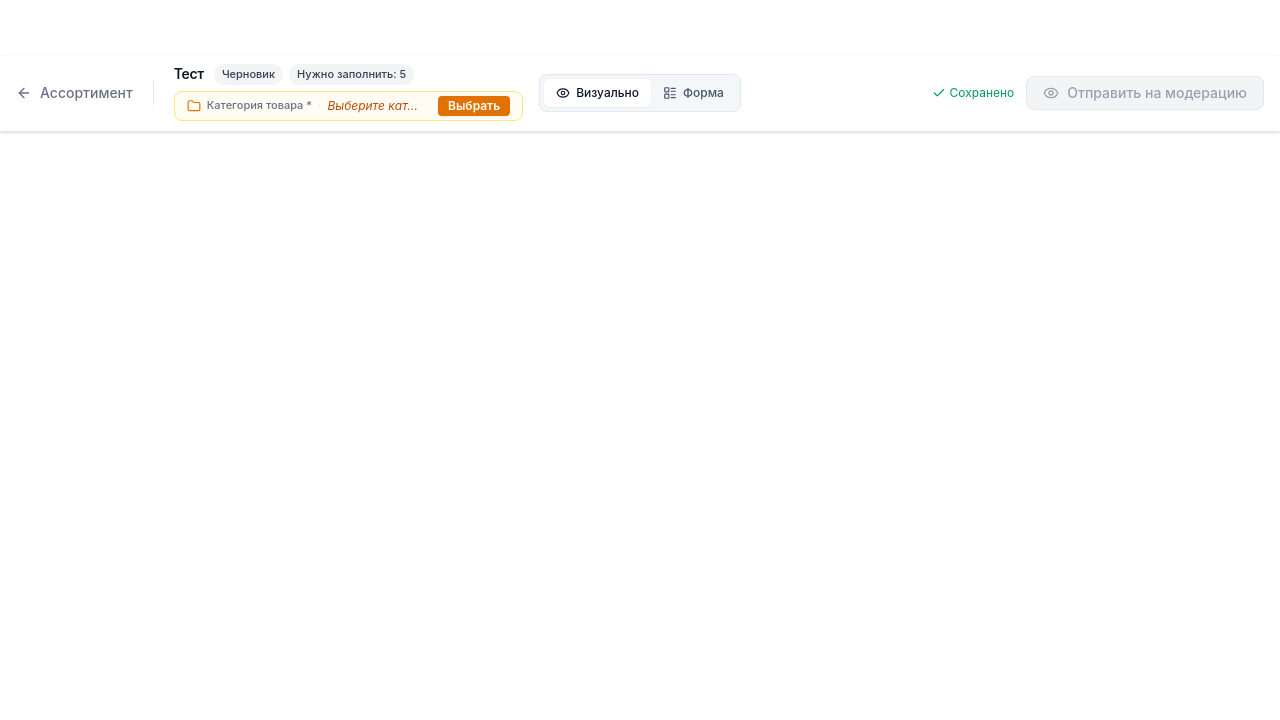
Test: PS.R4B3.1C4C3B3C — Section 19: Prominent Global Category Control › 19C. Click: clicking "Выбрать" / "Изменить" opens canonical category modal
// Click "Выбрать"
Step 1. Click the button with test id "studio-header-category-btn" → (474, 106), box x1=438 y1=96 x2=510 y2=116
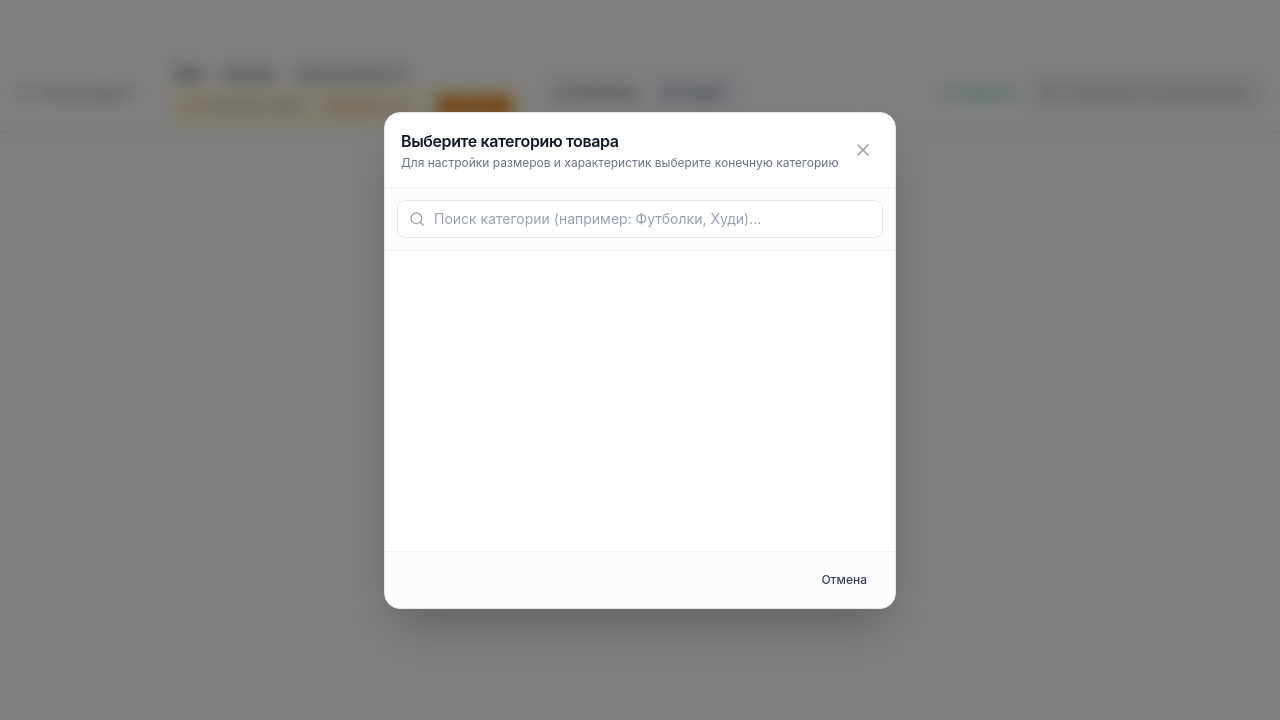
expect the field with test id "category-search-input" is shown: met, box x1=397 y1=200 x2=883 y2=238
